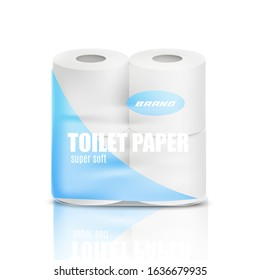Tissue: (46, 45, 209, 207)
